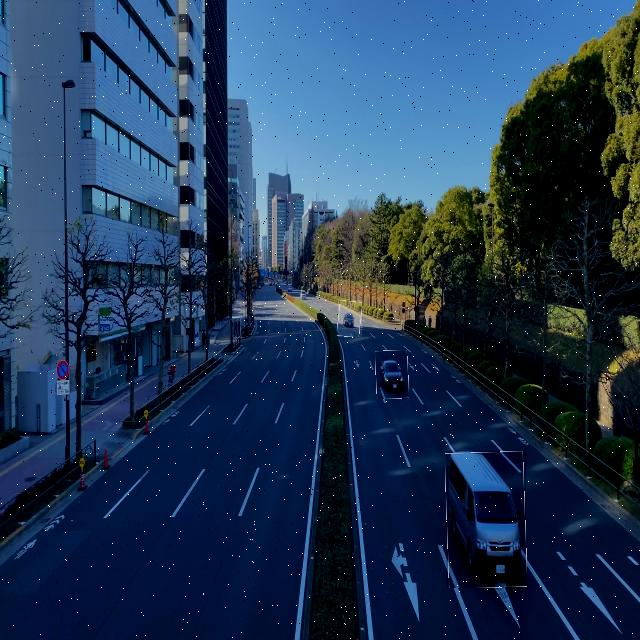Car: (446, 451, 526, 588), (376, 351, 408, 399), (338, 300, 362, 337)
